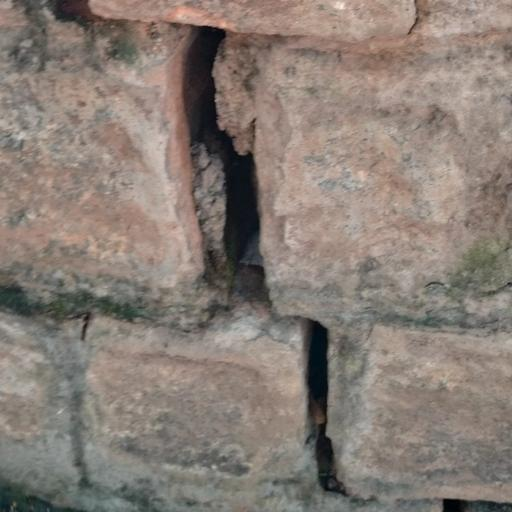major_crack: (140, 0, 289, 320), (293, 296, 381, 506)
